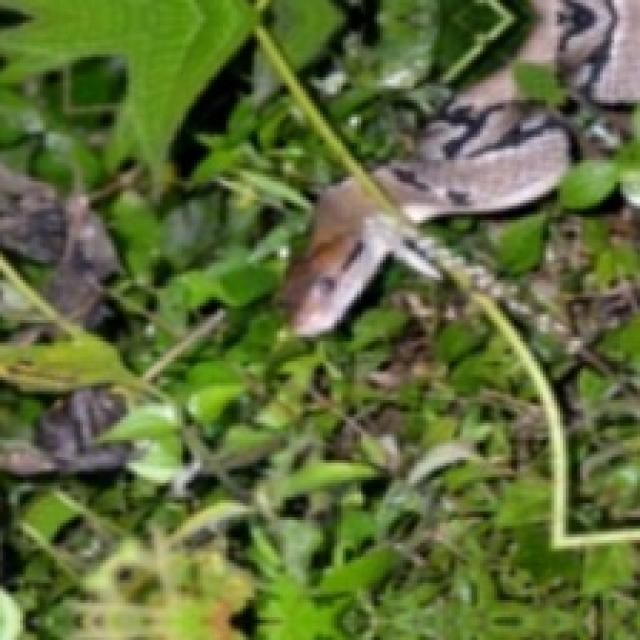dog-toothed cat snake: (374, 63, 569, 220), (286, 180, 431, 334), (514, 0, 637, 100)
